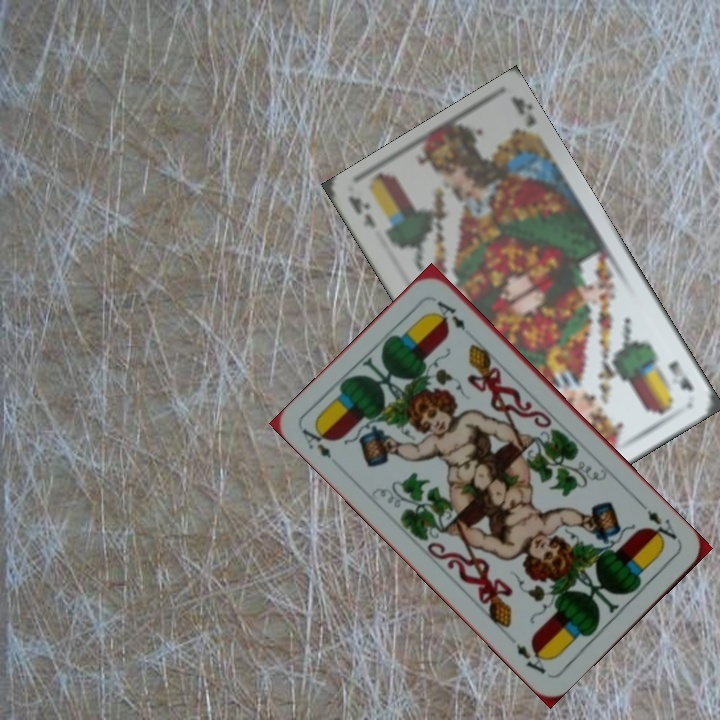EA: (636, 499, 680, 547), (297, 421, 335, 461)
EK: (344, 193, 378, 232), (663, 356, 696, 394)
